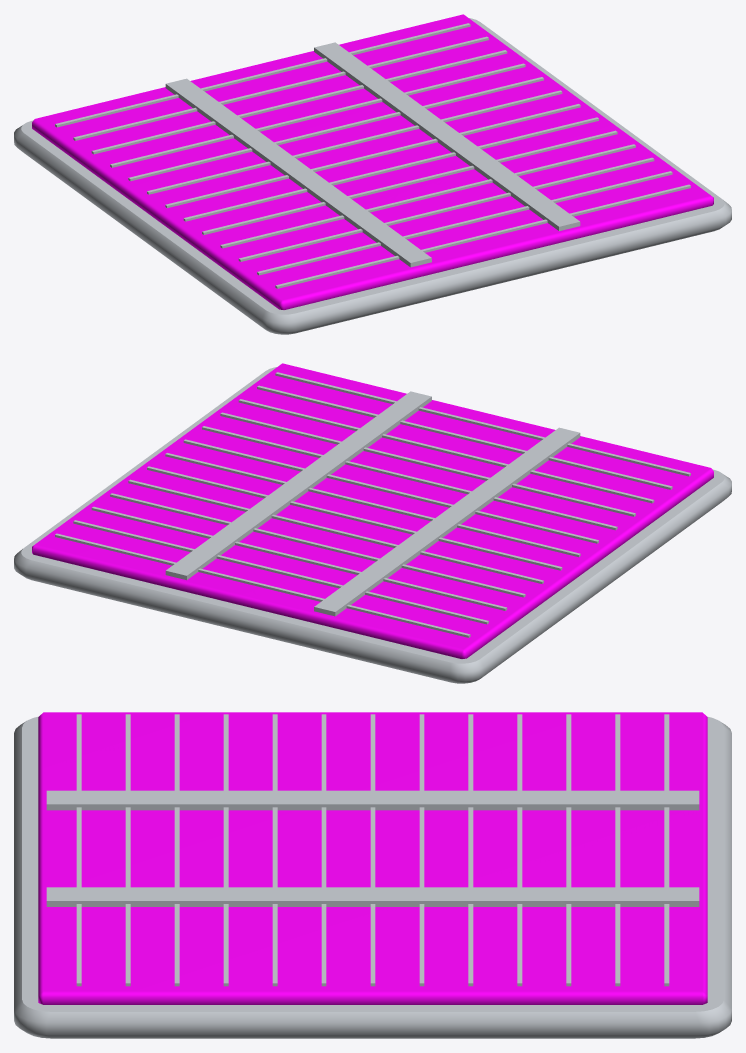
The model's file is objet_cellule_solaire.glb.
The picture shows the model from 3 angles, top to bottom: view 1: azimuth 30°, elevation 25°; view 2: azimuth 150°, elevation 25°; view 3: azimuth 270°, elevation 25°; orthographic projection. The views are drawn at different scales.
Visible parts, largest first — view 1: cellule_teinte.002, cellule_composant_clair.002; view 2: cellule_teinte.002, cellule_composant_clair.002; view 3: cellule_teinte.002, cellule_composant_clair.002.
Boxes of the visible parts, left/top/right/bottom form: cellule_teinte.002: left=32, top=14, right=713, bottom=309; cellule_composant_clair.002: left=14, top=18, right=731, bottom=334; cellule_teinte.002: left=32, top=363, right=713, bottom=658; cellule_composant_clair.002: left=14, top=367, right=731, bottom=683; cellule_teinte.002: left=38, top=712, right=707, bottom=1004; cellule_composant_clair.002: left=14, top=714, right=731, bottom=1038.
Bounding box in the file's own units: 0.22 × 0.015 × 0.22.
